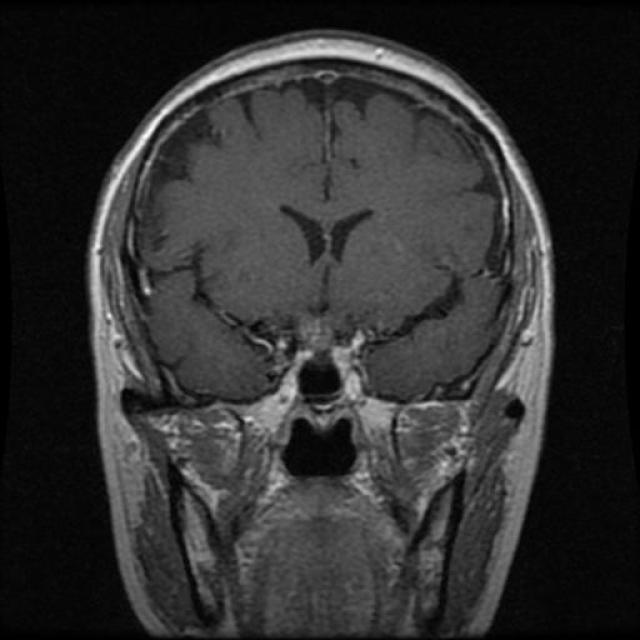pituitary: (252, 314, 374, 466)
